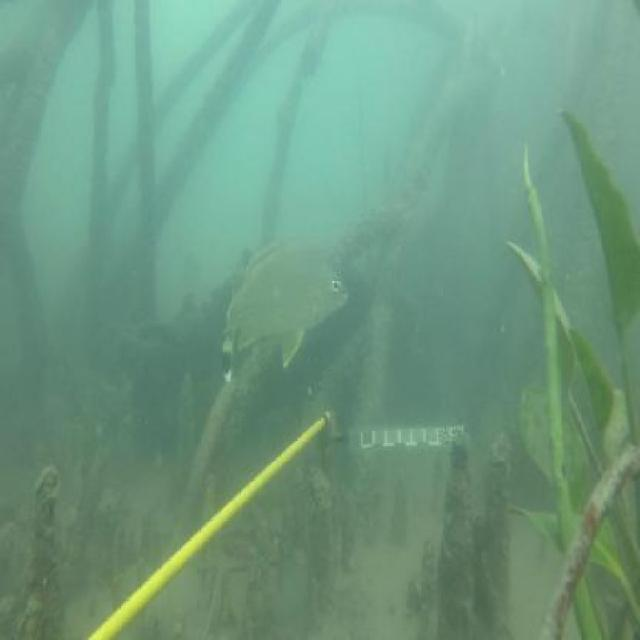Amniataba_caudivittatus: (219, 237, 352, 380)
